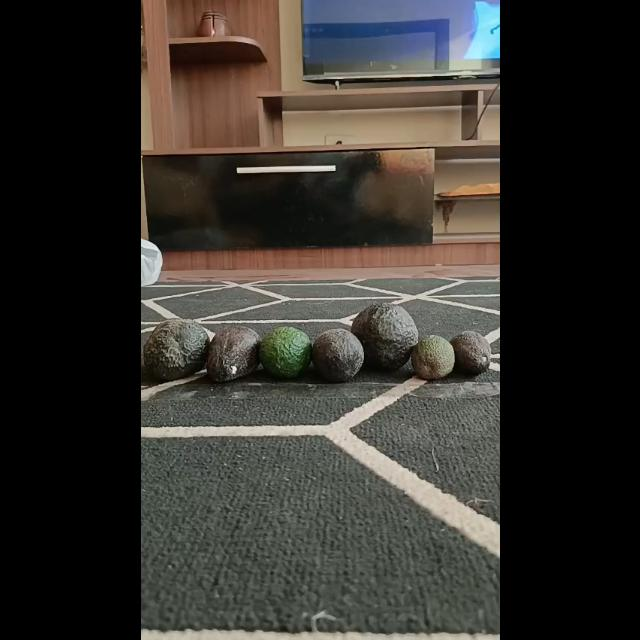Primera: (349, 302, 418, 368), (140, 318, 208, 380)
Segunda: (204, 324, 262, 382), (311, 328, 364, 382), (259, 326, 311, 378)
Tercera: (410, 334, 456, 380), (448, 330, 492, 376)
